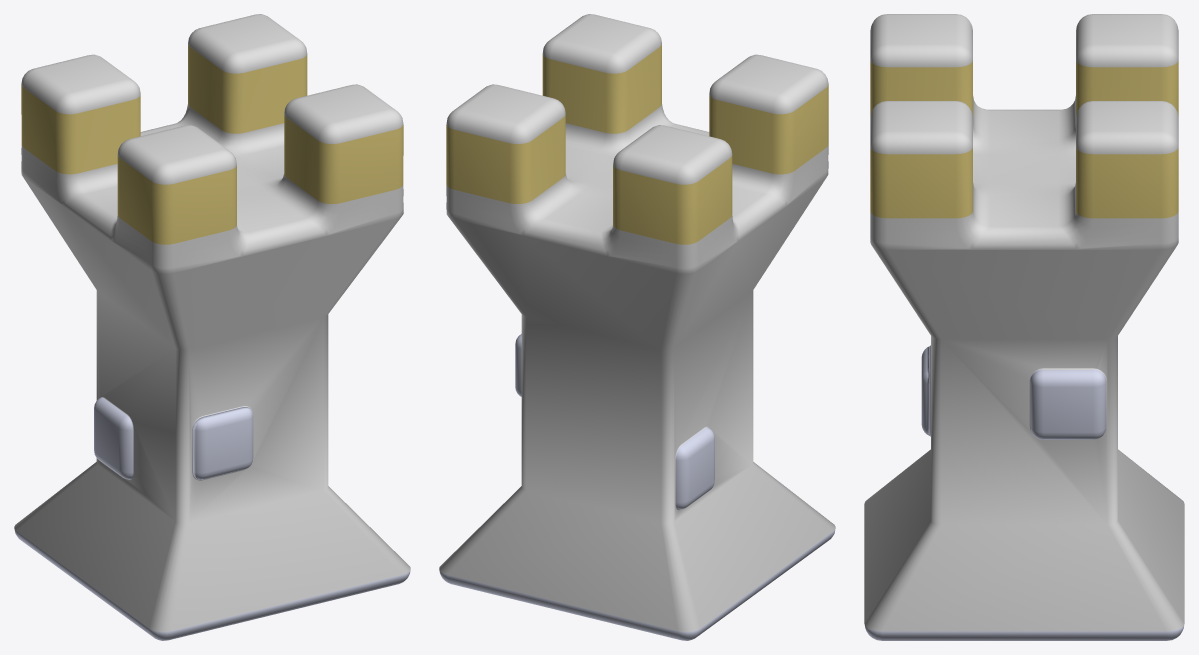
Rendered from HyperTowerDefence_Tower.fbx.
3 renders of one model, left to right at view 1: azimuth 30°, elevation 25°; view 2: azimuth 150°, elevation 25°; view 3: azimuth 270°, elevation 25°, orthographic. The views are drawn at different scales.
Parts seen in each view (by area): view 1: Cube; view 2: Cube; view 3: Cube.
Part boxes in pixels (box(x1,y1,x2,y2)): Cube: box(14, 14, 410, 640); Cube: box(439, 14, 835, 640); Cube: box(864, 14, 1184, 640).
Bounding box in the file's own units: 208 × 362 × 208.
